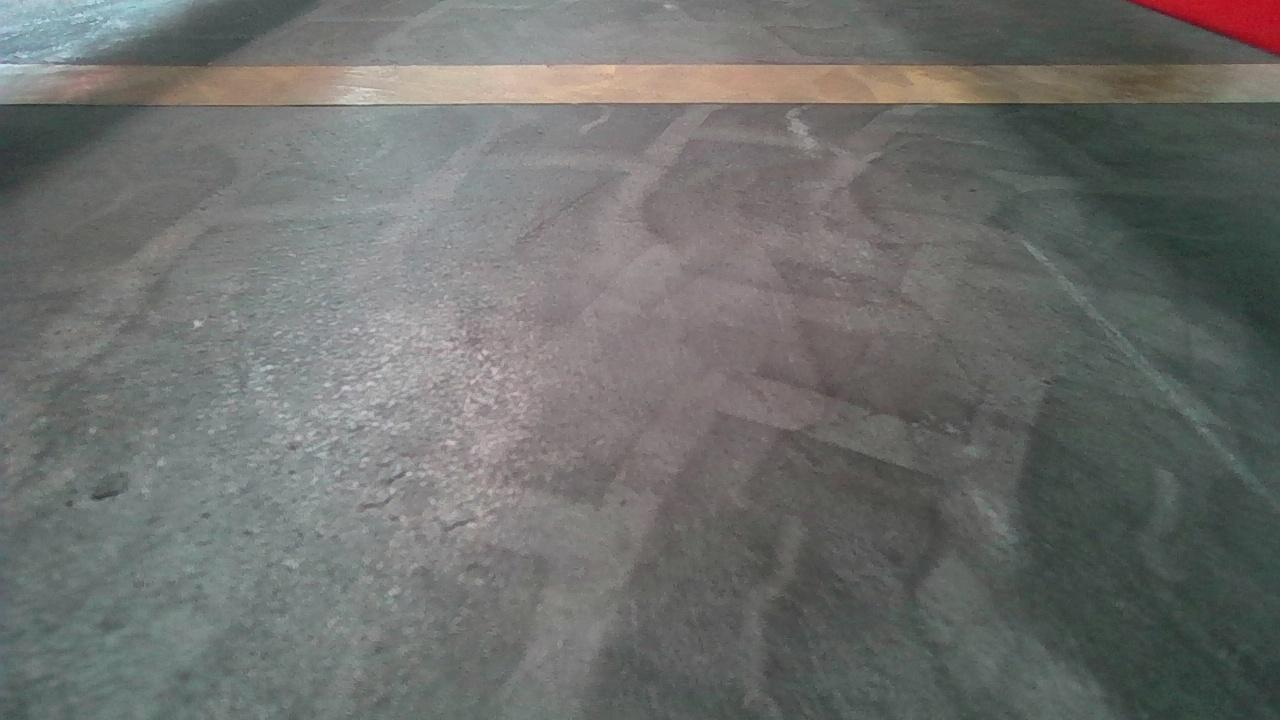yellow_line: (13, 52, 1254, 111)
